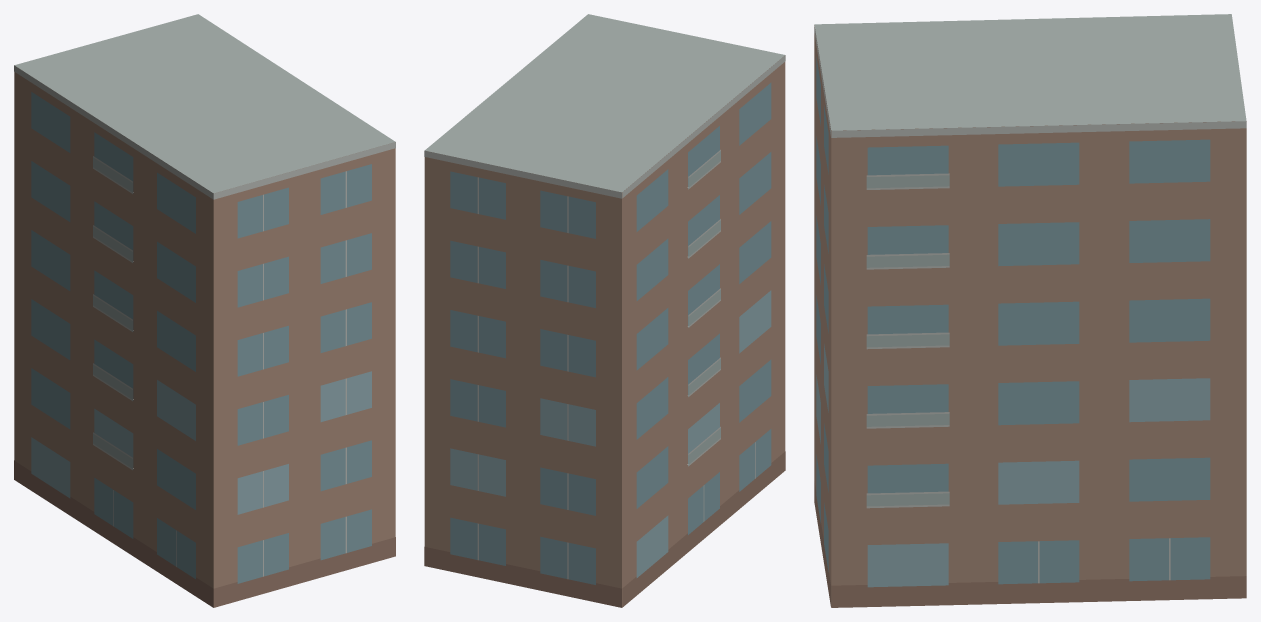
Rendered from survey-upis-32885773.glb.
3 renders of one model, left to right at view 1: azimuth 30°, elevation 25°; view 2: azimuth 150°, elevation 25°; view 3: azimuth 270°, elevation 25°, orthographic. The views are drawn at different scales.
Visible parts, largest first — view 1: survey-upis-32885773.tmp; view 2: survey-upis-32885773.tmp; view 3: survey-upis-32885773.tmp.
Boxes of the visible parts, box(x1,y1,x2,y2) form: survey-upis-32885773.tmp: box(14, 14, 395, 607); survey-upis-32885773.tmp: box(424, 14, 785, 607); survey-upis-32885773.tmp: box(814, 14, 1246, 607).
Bounding box in the file's own units: 8.46 × 16.1 × 13.23.
